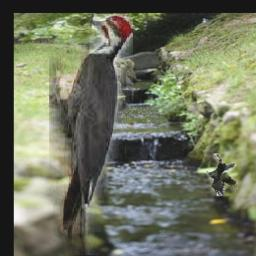Crow: (207, 154, 239, 197)
Woodpecker: (50, 14, 134, 255)
